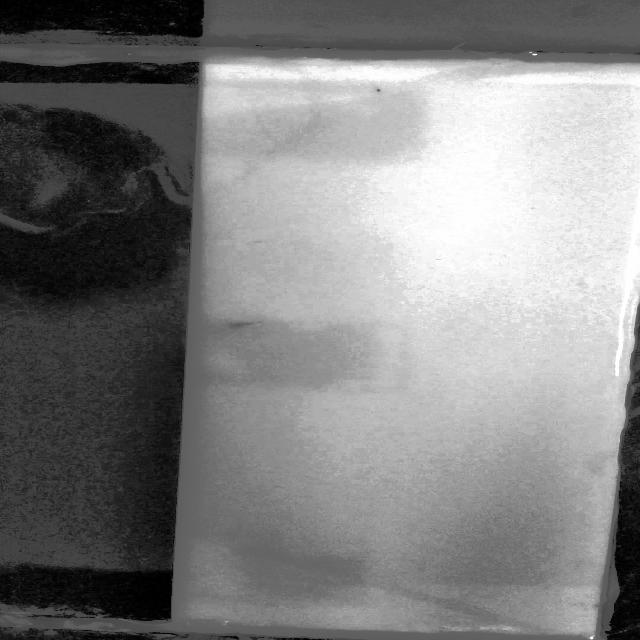shrimp: (224, 322, 253, 329), (368, 86, 386, 97)
